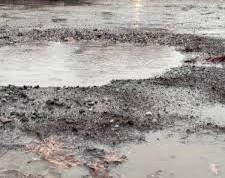pothole: (0, 16, 218, 90), (26, 101, 220, 178)
